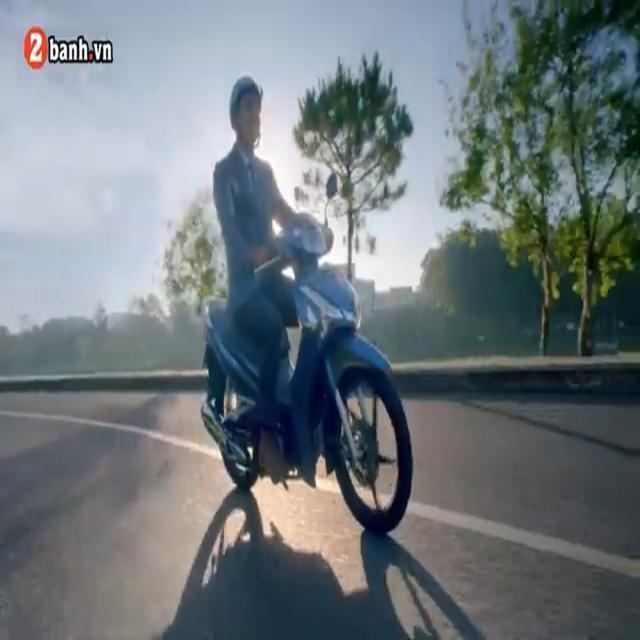motorcycle: (193, 206, 415, 539)
